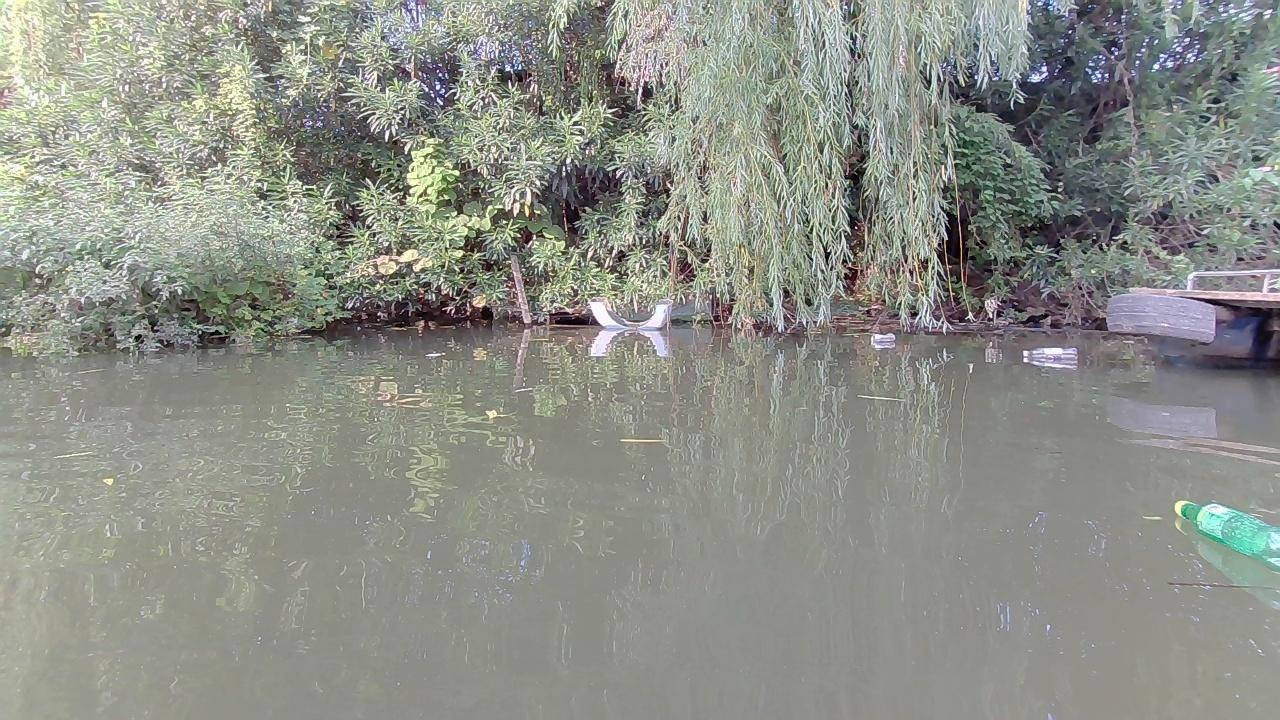bottle: (1172, 494, 1279, 573), (1019, 342, 1077, 366), (867, 331, 899, 342)
